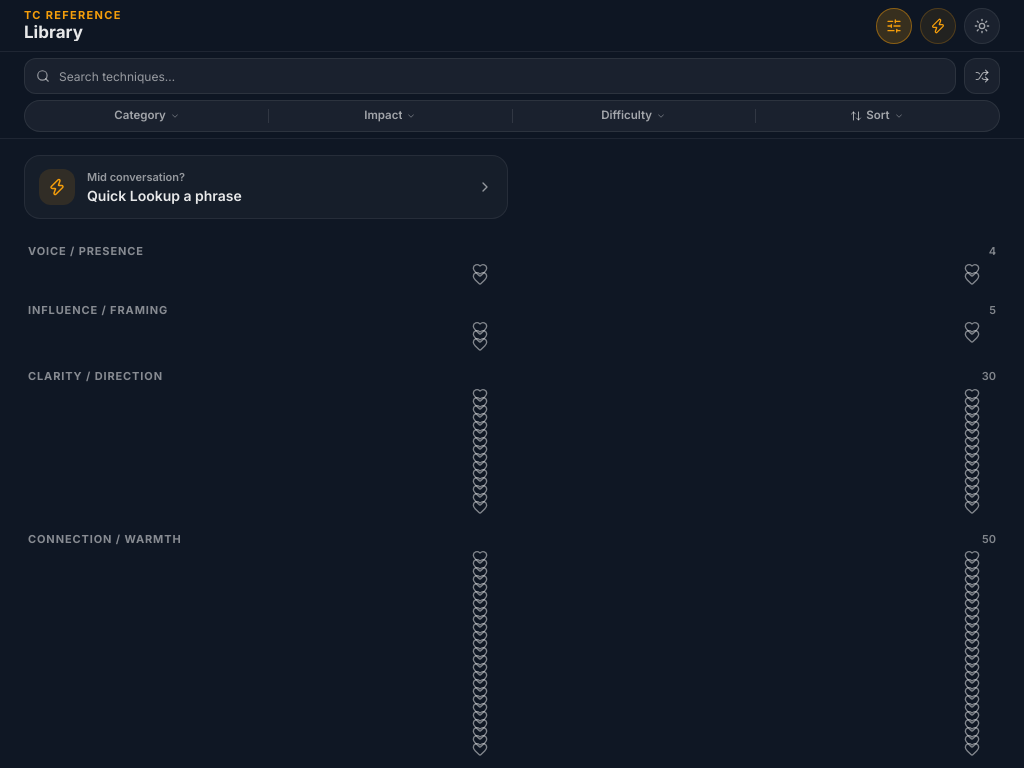
it: Library smart search toggle › dismisses via close button and restores the opener without reopening
Click the dropdown with test id "library-search-input" at (490, 76), box [24,58,956,94]
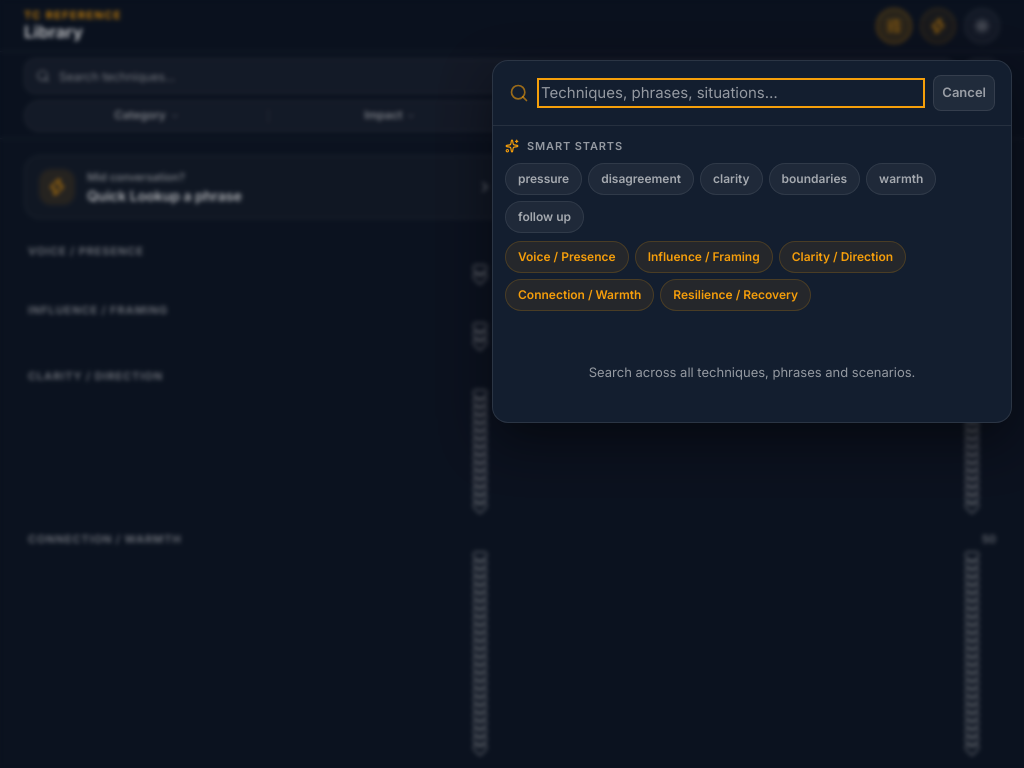
Click the button with aria-label "Close search" at (964, 93), box [933,75,995,111]
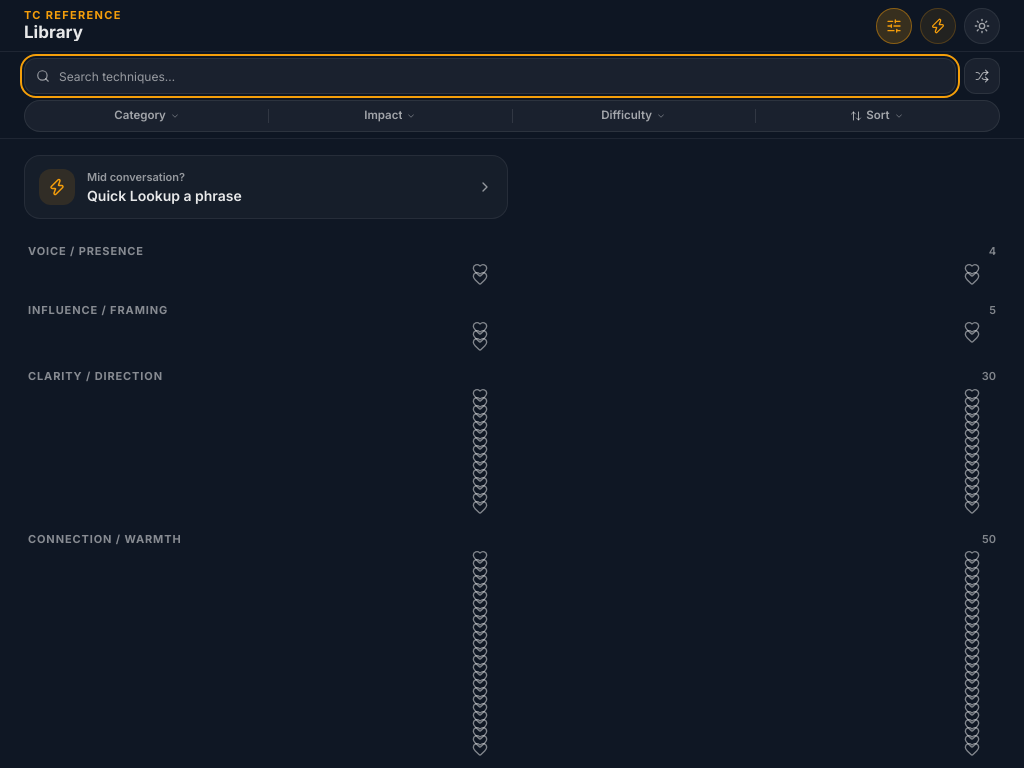
Now the dialog with test id "search-modal" is gone
Now the dropdown with test id "library-search-input" is collapsed, box [24,58,956,94]
